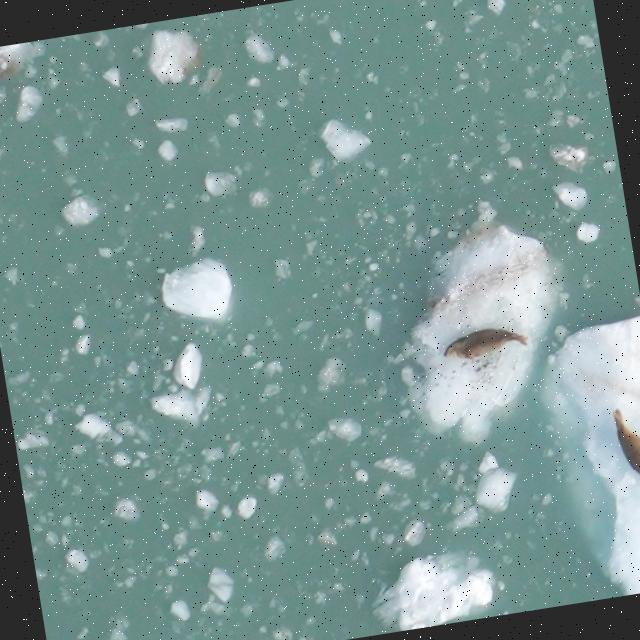seal: (434, 317, 536, 370), (606, 400, 640, 502)
